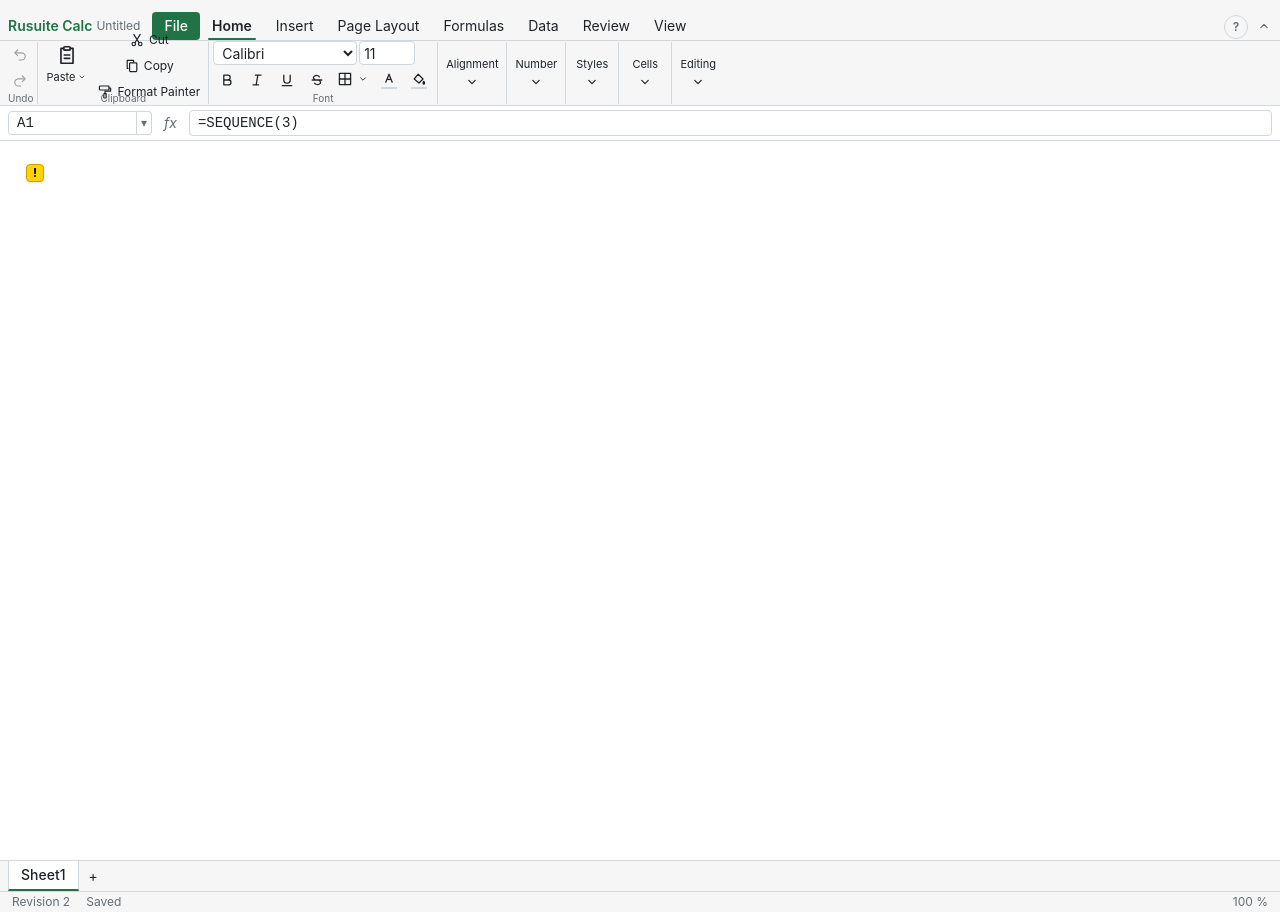
spill UI › a #SPILL! formula cell gets an indicator: tooltip, and Select obstructing cells
Expected: the tab "Sheet1" is shown, top-left (8, 861), bottom-right (78, 891)
Click the button named "Spill error".
click(35, 173)  # box top-left (26, 164), bottom-right (44, 182)
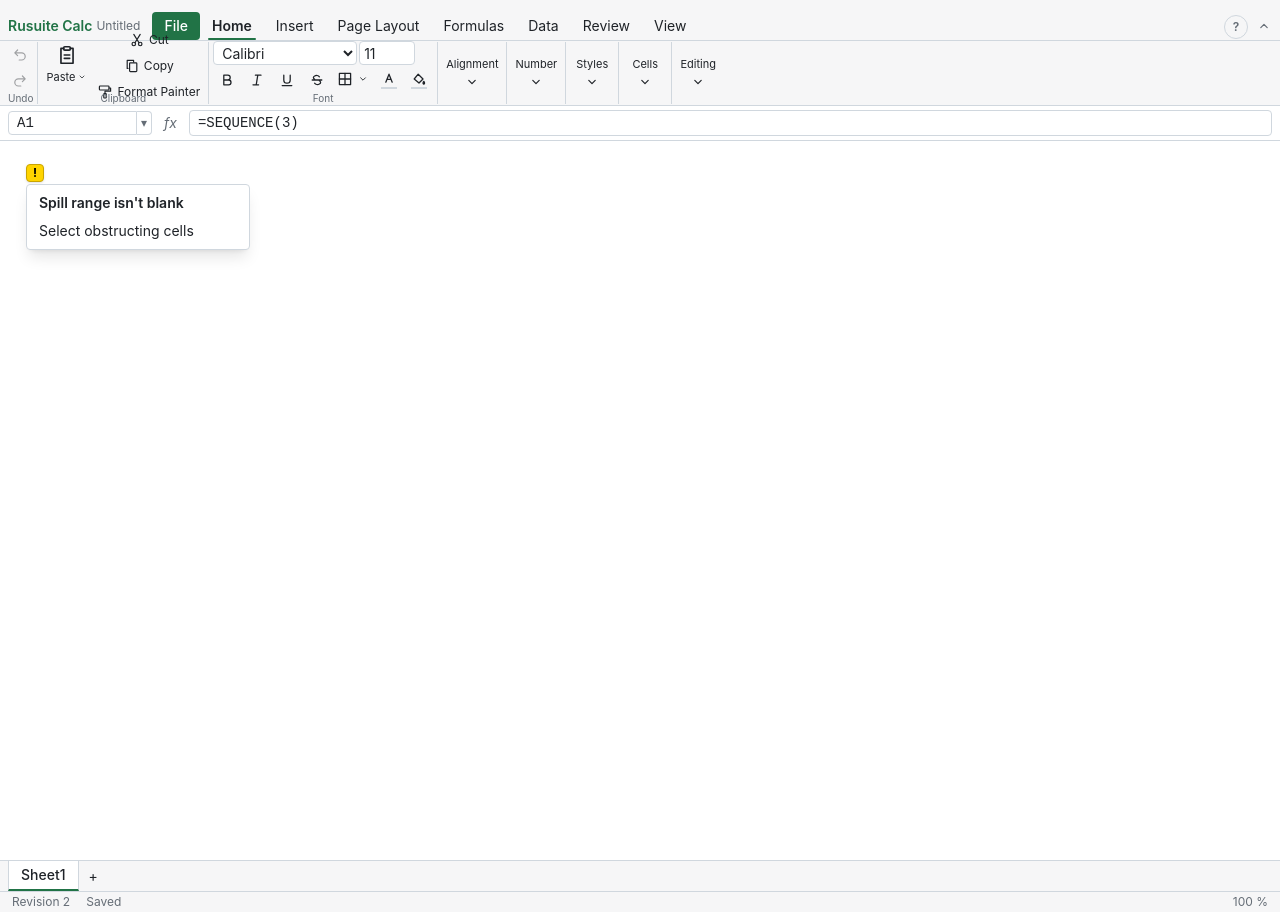
Result: the menu with test id "spill-menu" shows "Spill range isn't blank" at top-left (39, 194), bottom-right (184, 211)
Click the menu item "Select obstructing cells".
click(138, 231)  # box top-left (27, 217), bottom-right (249, 245)
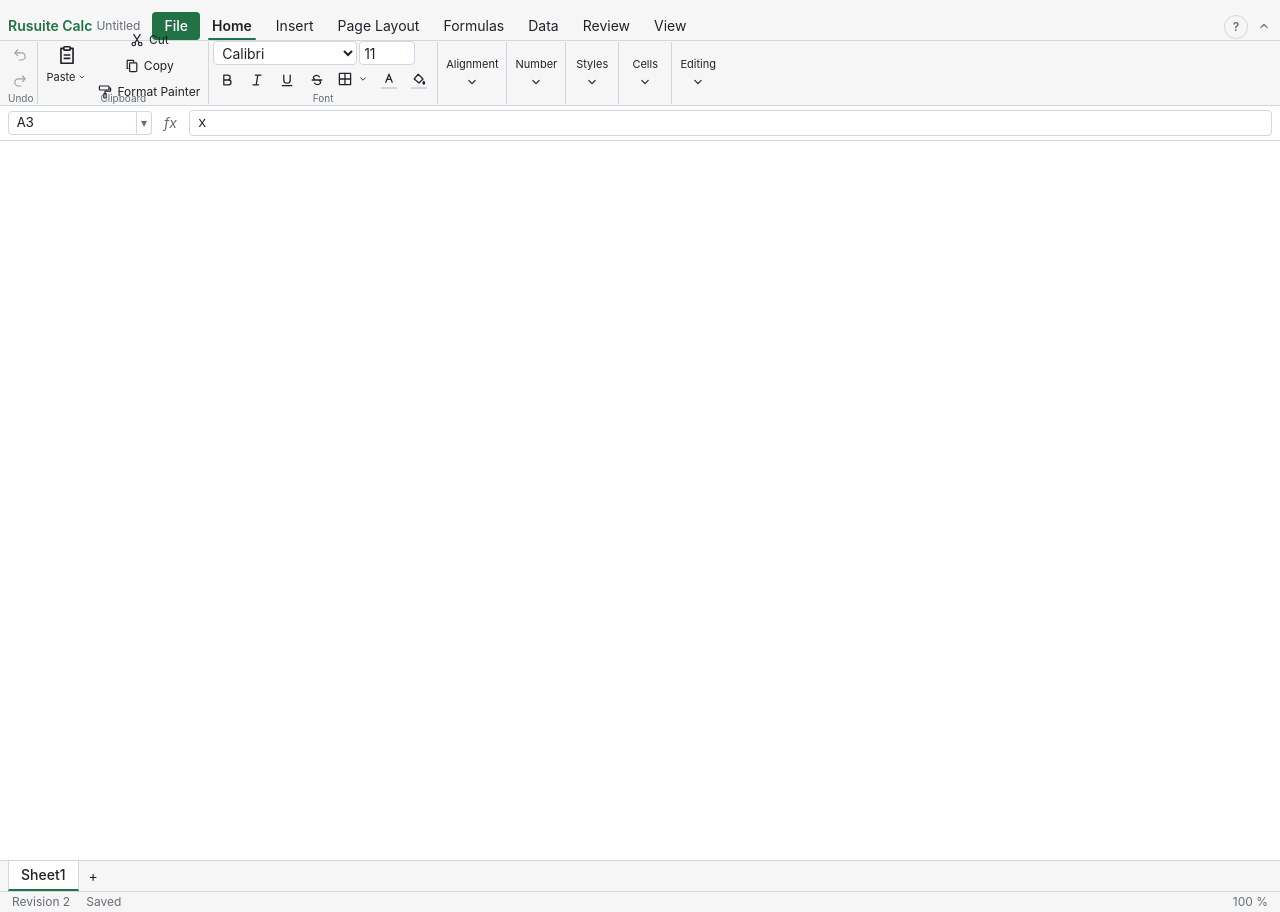
Result: the dropdown with test id "cell-address" holds "A3" at top-left (8, 111), bottom-right (137, 135)
Result: the element with test id "spill-indicator" is gone
